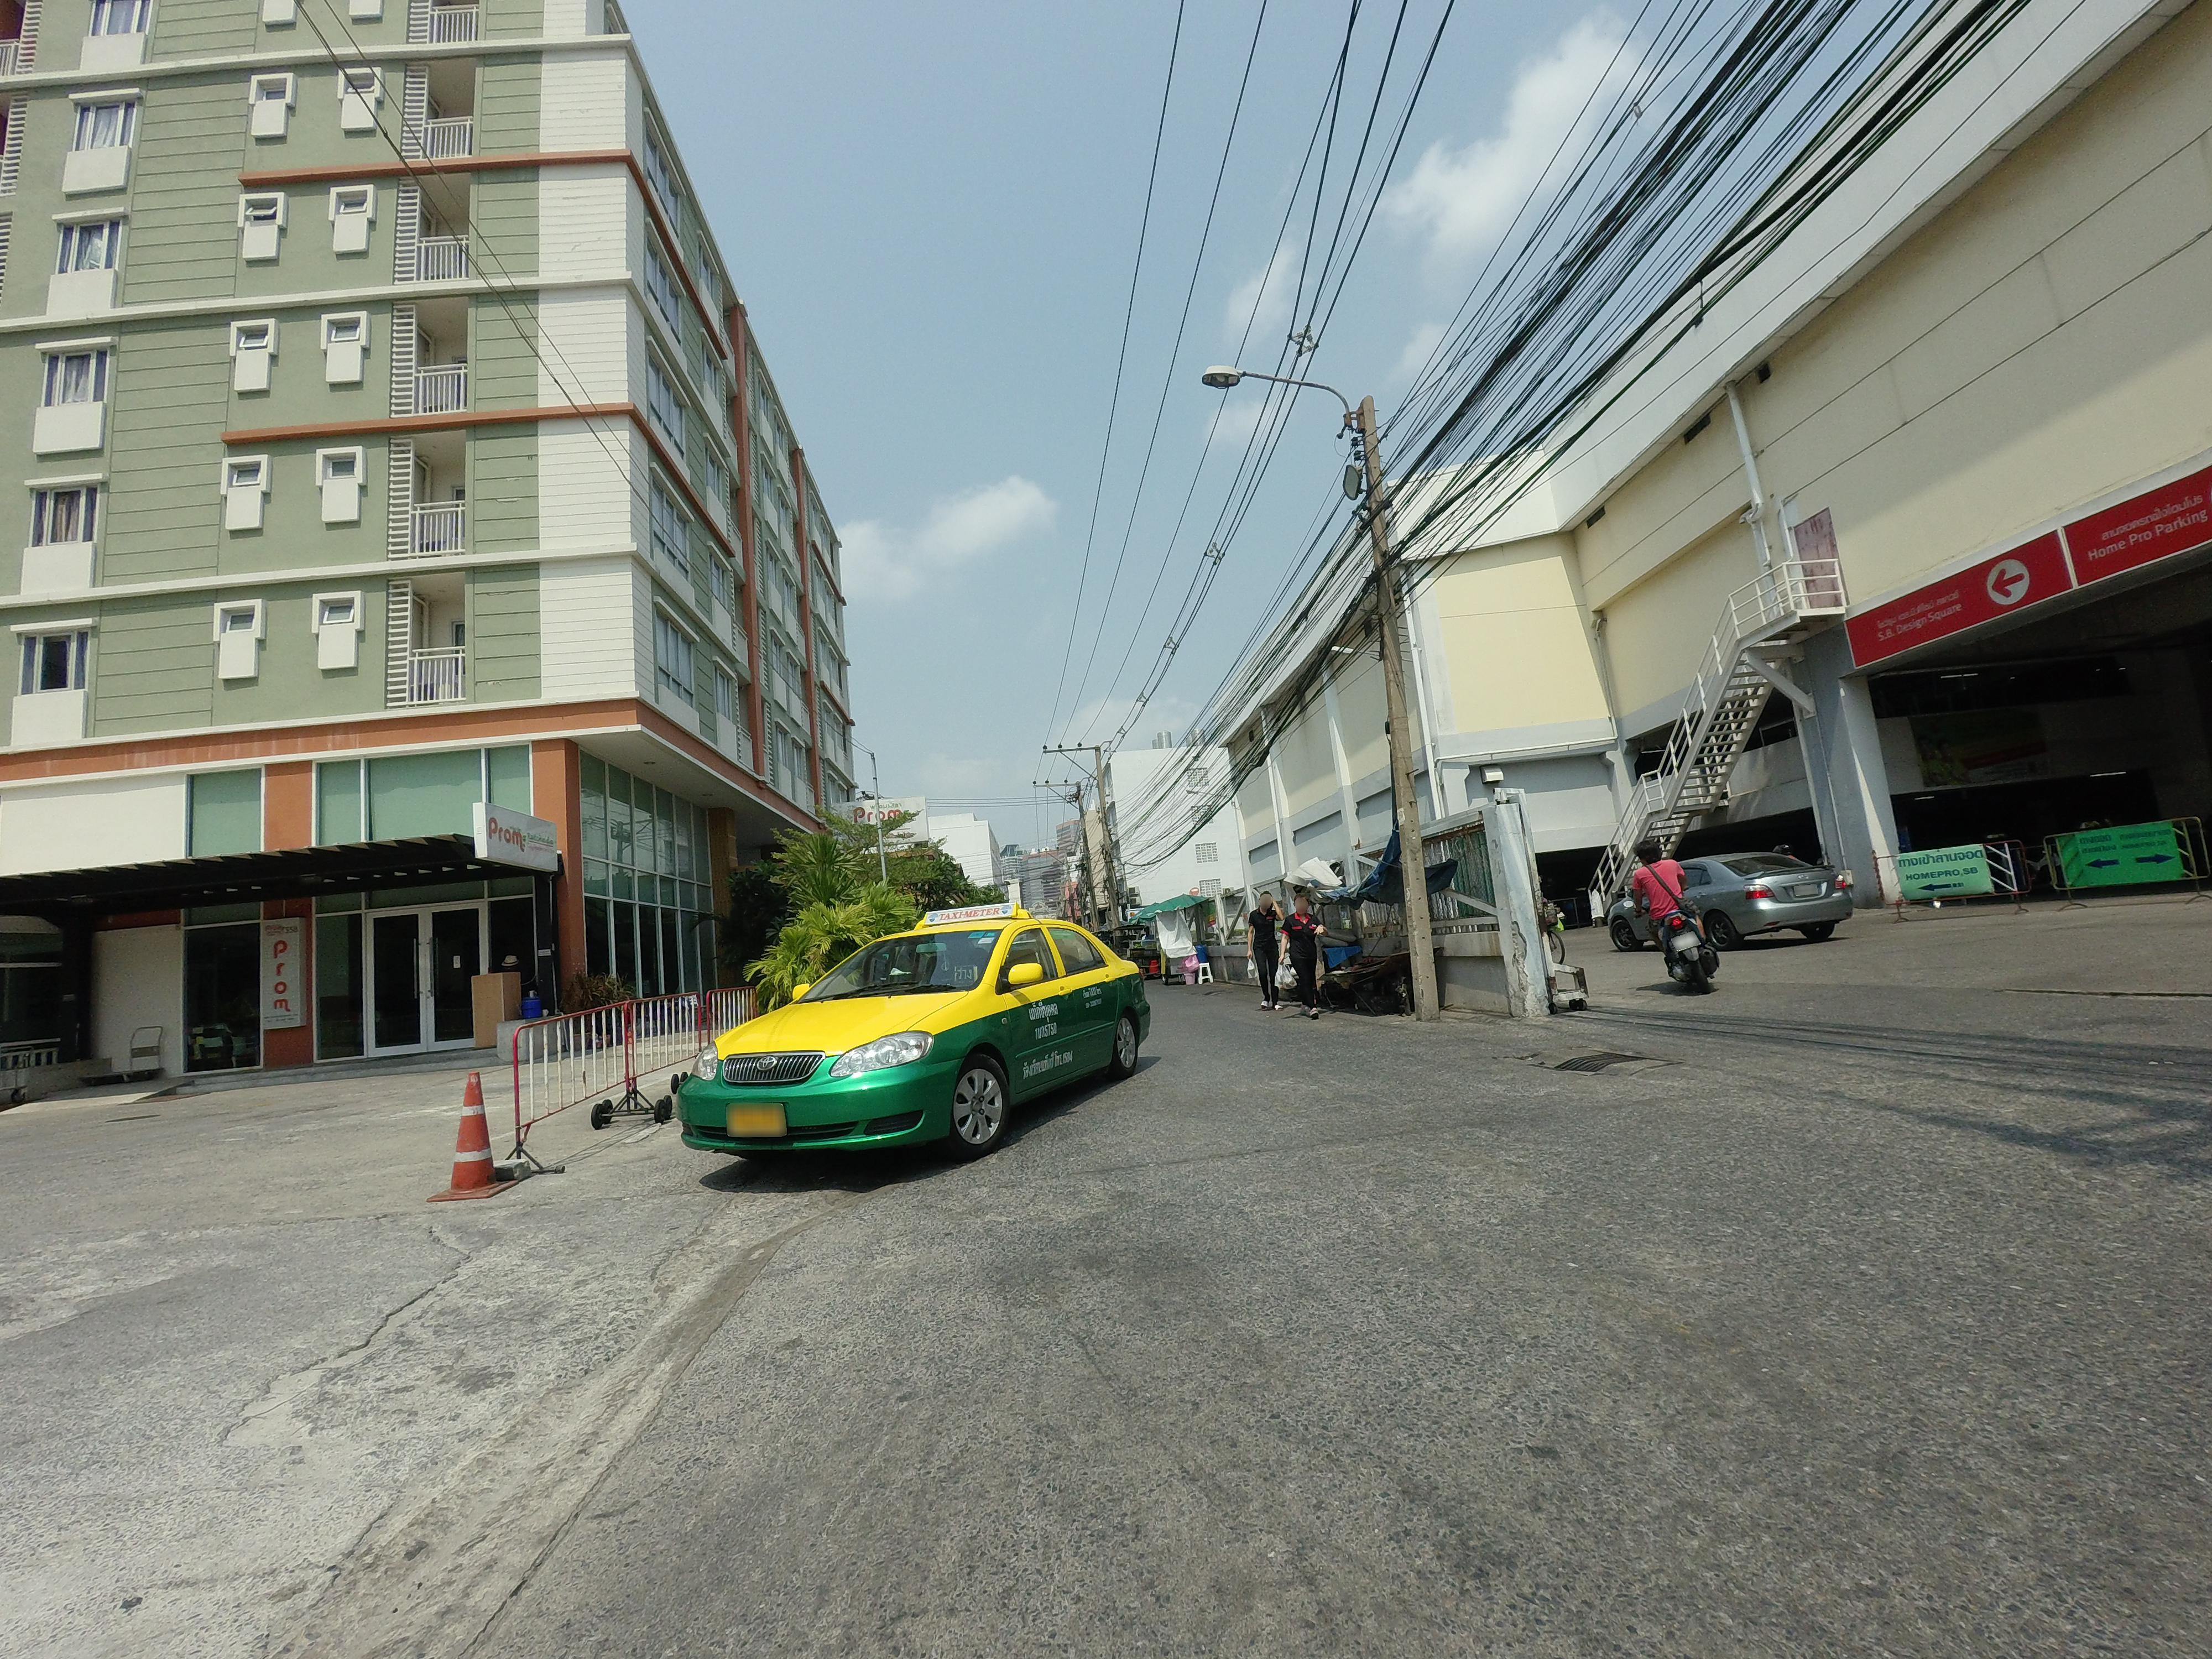vinyl banner: (2054, 812, 2195, 911), (1890, 826, 2012, 906)
